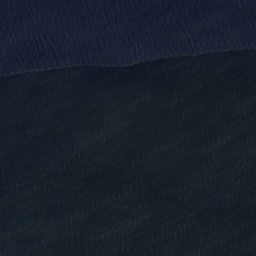Marine Debris: (0, 47, 234, 78), (242, 46, 256, 50)
